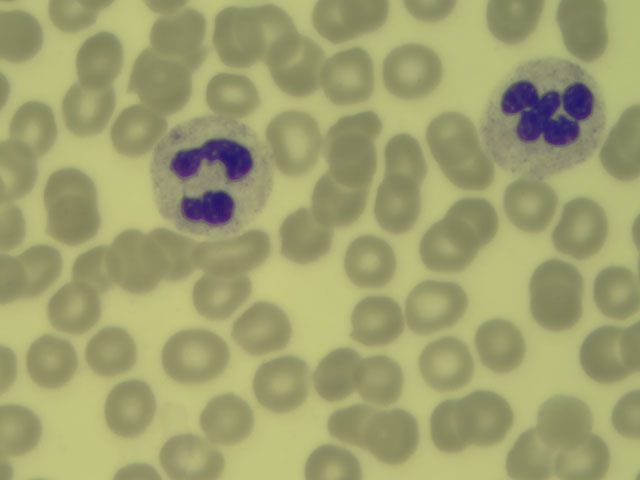RBC: (44, 172, 101, 243), (129, 48, 190, 113), (162, 327, 231, 381), (529, 263, 584, 329), (580, 326, 635, 388), (557, 1, 612, 62), (103, 380, 157, 440), (384, 44, 445, 97), (272, 110, 321, 172), (255, 356, 310, 411), (322, 47, 374, 105), (419, 336, 473, 389), (561, 197, 607, 259), (501, 183, 558, 232), (61, 84, 113, 137), (278, 208, 330, 261), (23, 338, 77, 389), (213, 5, 259, 64), (142, 10, 205, 53), (344, 234, 396, 286), (273, 34, 319, 92), (157, 436, 219, 479), (235, 308, 294, 353), (373, 176, 423, 229), (606, 101, 640, 178), (202, 73, 262, 116), (466, 390, 511, 447), (315, 172, 365, 223), (203, 391, 255, 440), (368, 412, 420, 461), (422, 223, 476, 270), (539, 397, 594, 443), (309, 2, 381, 37), (483, 1, 540, 45), (351, 296, 403, 344), (77, 33, 124, 85), (477, 318, 524, 370), (86, 332, 140, 377), (594, 266, 640, 318), (256, 5, 300, 59), (149, 231, 194, 283), (314, 348, 359, 399), (410, 283, 463, 326), (1, 140, 38, 201), (193, 278, 249, 318), (557, 437, 609, 480), (508, 429, 551, 480), (196, 240, 269, 270), (361, 353, 403, 405), (442, 148, 494, 190), (449, 200, 496, 245), (119, 234, 156, 291), (304, 443, 361, 480), (1, 9, 40, 63), (386, 133, 428, 183), (113, 106, 160, 150), (1, 407, 43, 456), (327, 142, 378, 182), (433, 115, 478, 159), (51, 291, 99, 331), (430, 400, 469, 449), (14, 104, 55, 148), (22, 247, 62, 291), (608, 386, 640, 439), (325, 114, 387, 141), (70, 250, 111, 286), (398, 1, 460, 24), (49, 2, 95, 32), (327, 405, 365, 440), (1, 205, 26, 246), (1, 343, 18, 399), (2, 254, 18, 309), (112, 464, 160, 480)
WBC: (157, 115, 273, 230), (489, 59, 605, 170)
